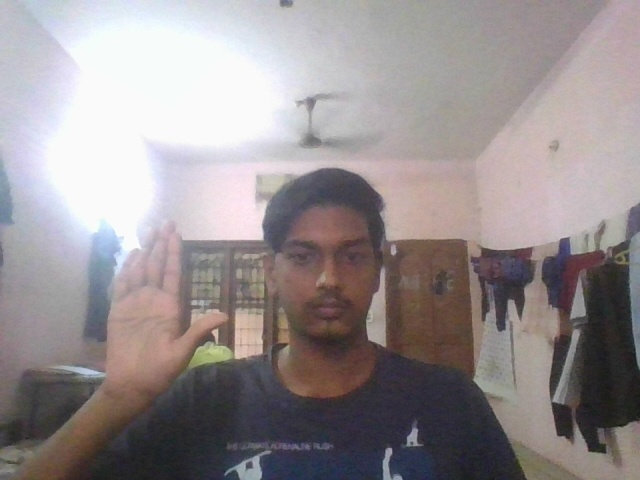hello: (102, 216, 234, 397)
